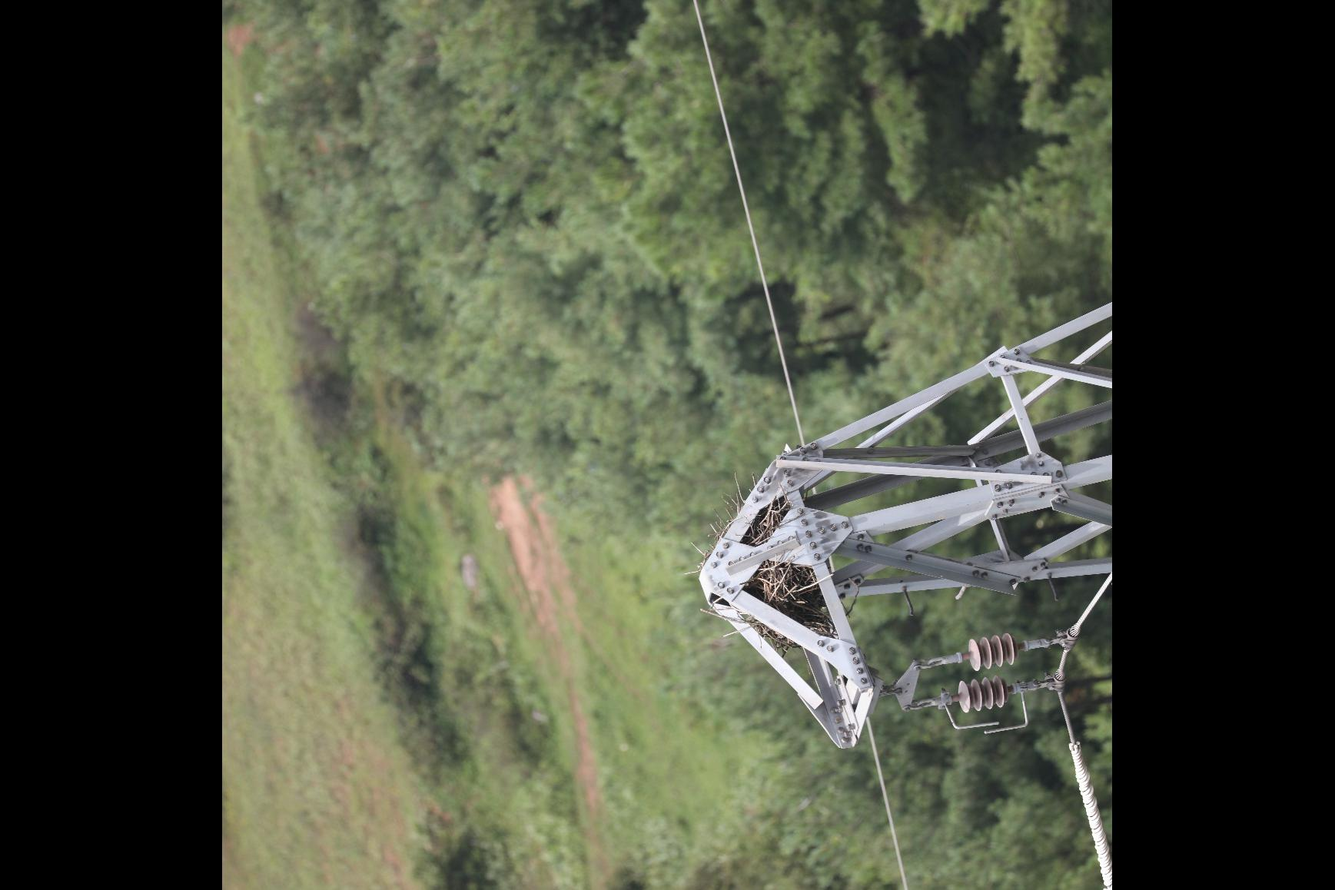nest: (682, 485, 835, 649)
